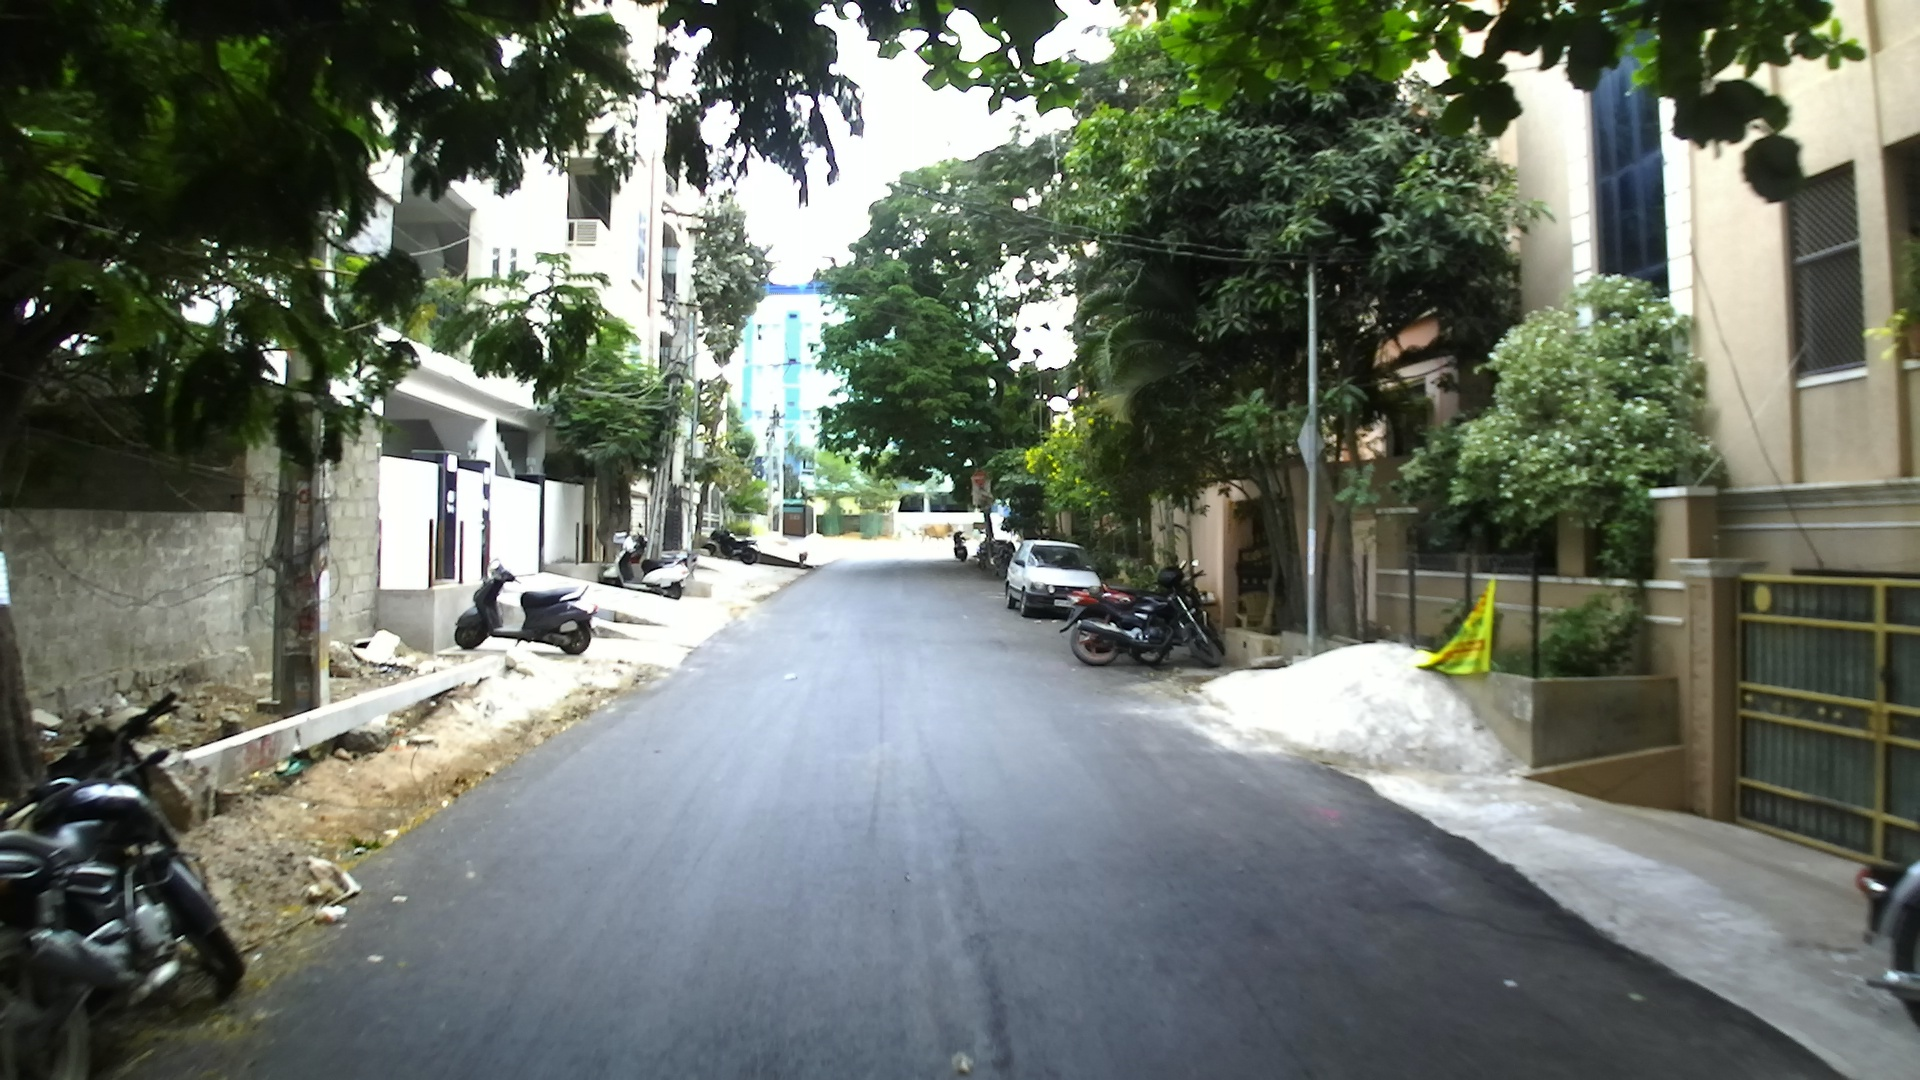vehicle: (0, 675, 247, 1023), (1065, 587, 1225, 670), (1067, 589, 1216, 670), (1001, 541, 1102, 618), (948, 513, 986, 564)
